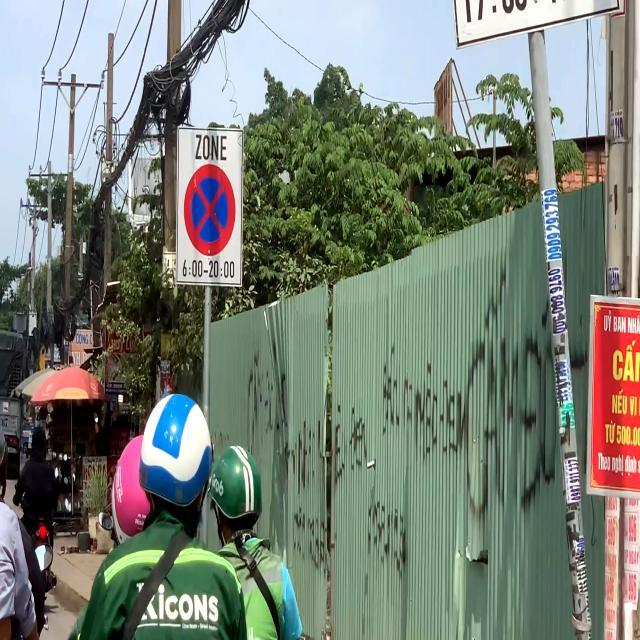P-130: (184, 165, 234, 256)
